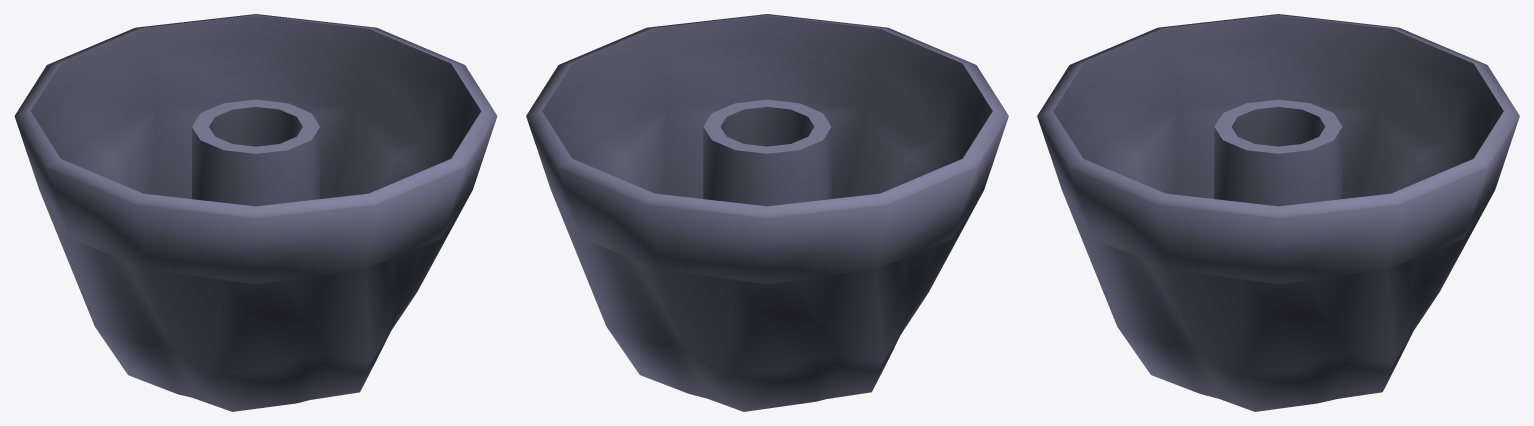
File: m_Gugelhupf_CakePan01.fbx
The picture shows the model from 3 angles, left to right: view 1: azimuth 30°, elevation 25°; view 2: azimuth 150°, elevation 25°; view 3: azimuth 270°, elevation 25°; orthographic projection.
Parts seen in each view (by area): view 1: m_Gugelhupf_CakePan01; view 2: m_Gugelhupf_CakePan01; view 3: m_Gugelhupf_CakePan01.
Boxes of the visible parts, <box> form: m_Gugelhupf_CakePan01: <box>14,14,497,411</box>; m_Gugelhupf_CakePan01: <box>526,14,1008,411</box>; m_Gugelhupf_CakePan01: <box>1037,14,1519,411</box>.
Bounding box in the file's own units: 32.2 × 17.97 × 32.2.
